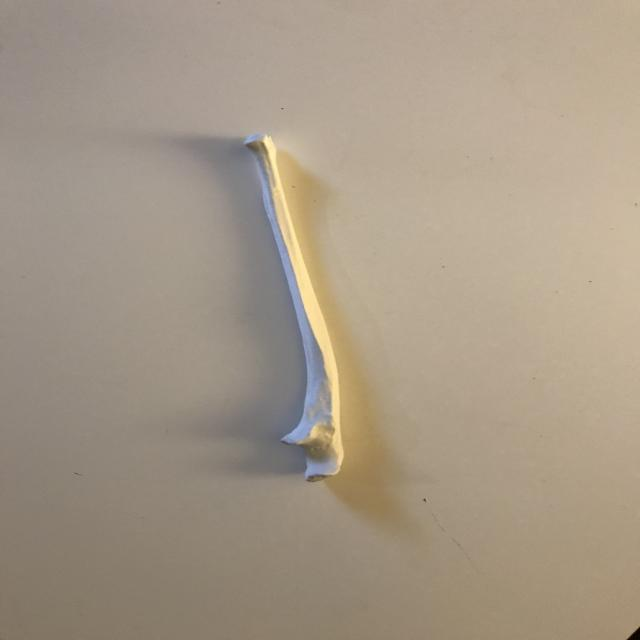bone: (239, 127, 354, 487)
